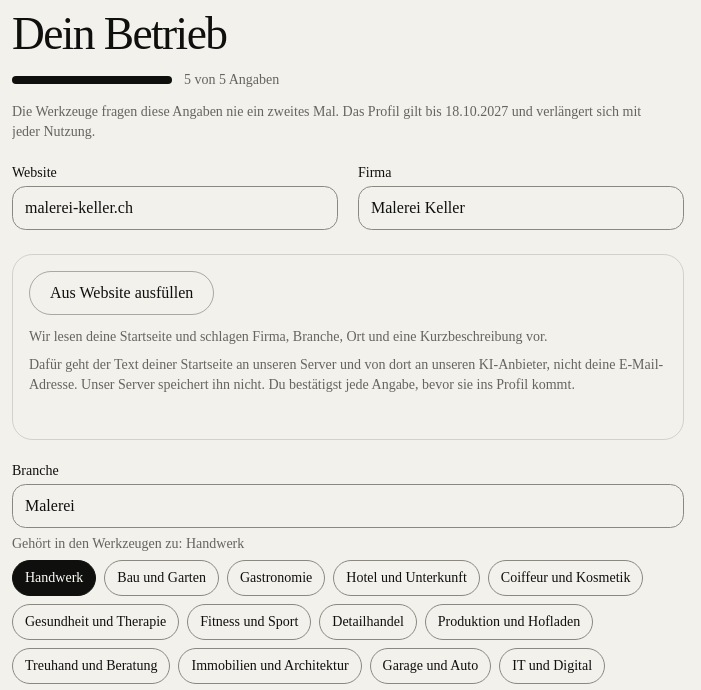
Test: Aus Website ausfüllen › sagt, wenn nichts Neues zu finden ist
This screenshot has width=701, height=690.
Click the button "Aus Website ausfüllen": x=122, y=293 [29,271,214,315]
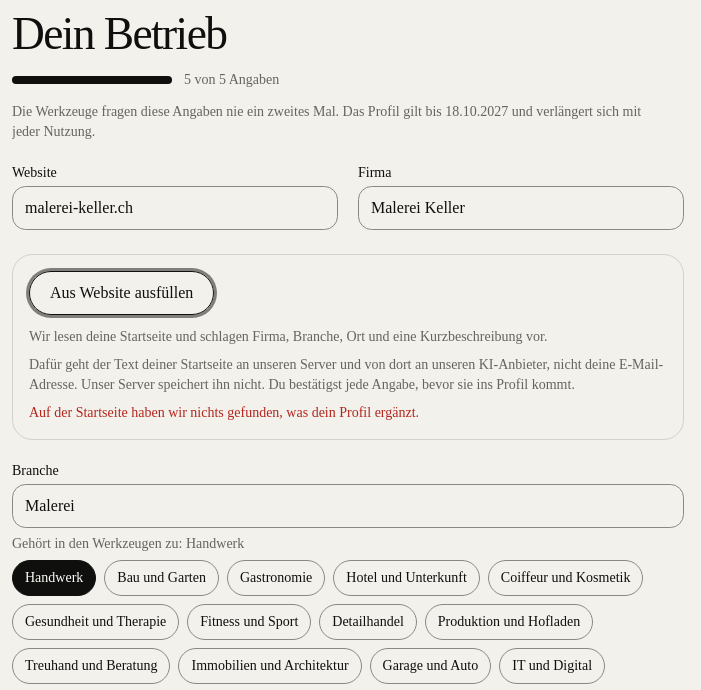
Result: the text "Auf der Startseite haben wir nichts gefunden, was dein Profil ergänzt." is shown at [29,405,419,420]
